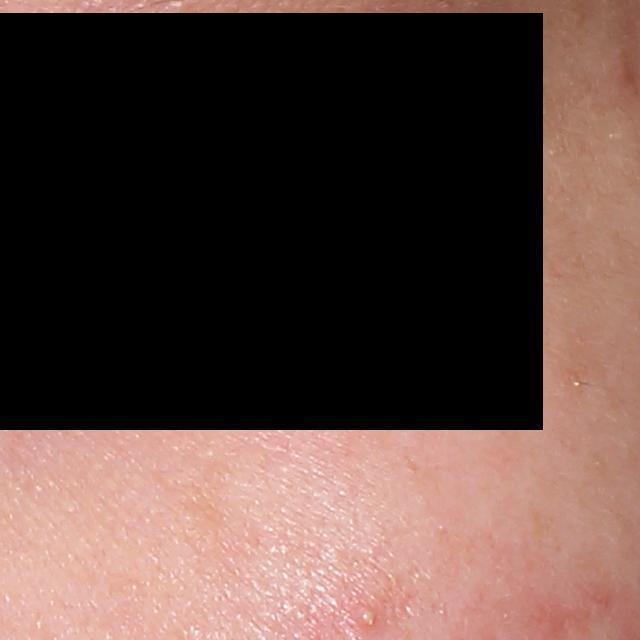papule: (610, 59, 634, 86)
pustule: (361, 606, 377, 626)
